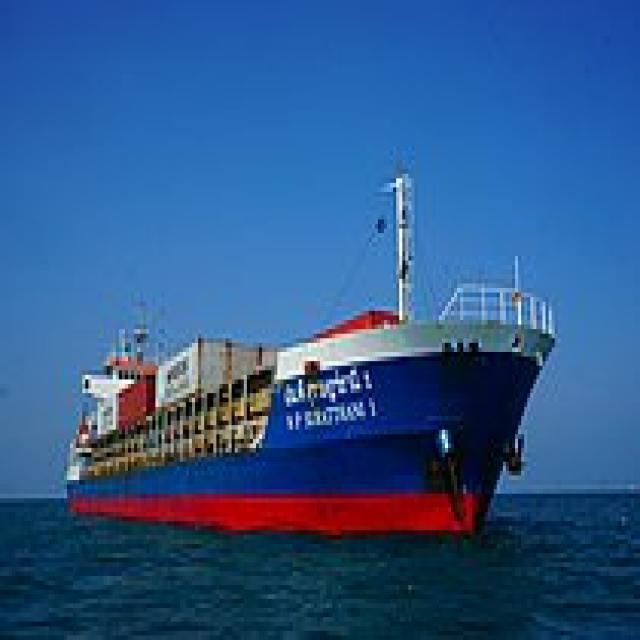Ship: (59, 143, 565, 541)
